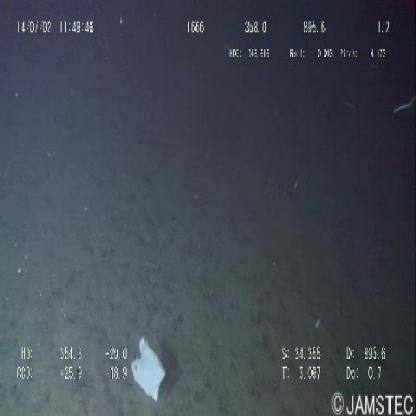Rác: (128, 327, 168, 411)
